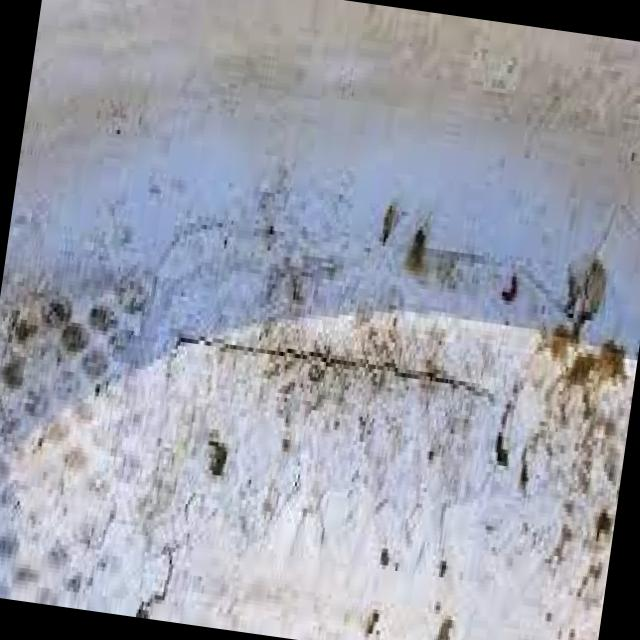crack: (167, 308, 512, 412)
